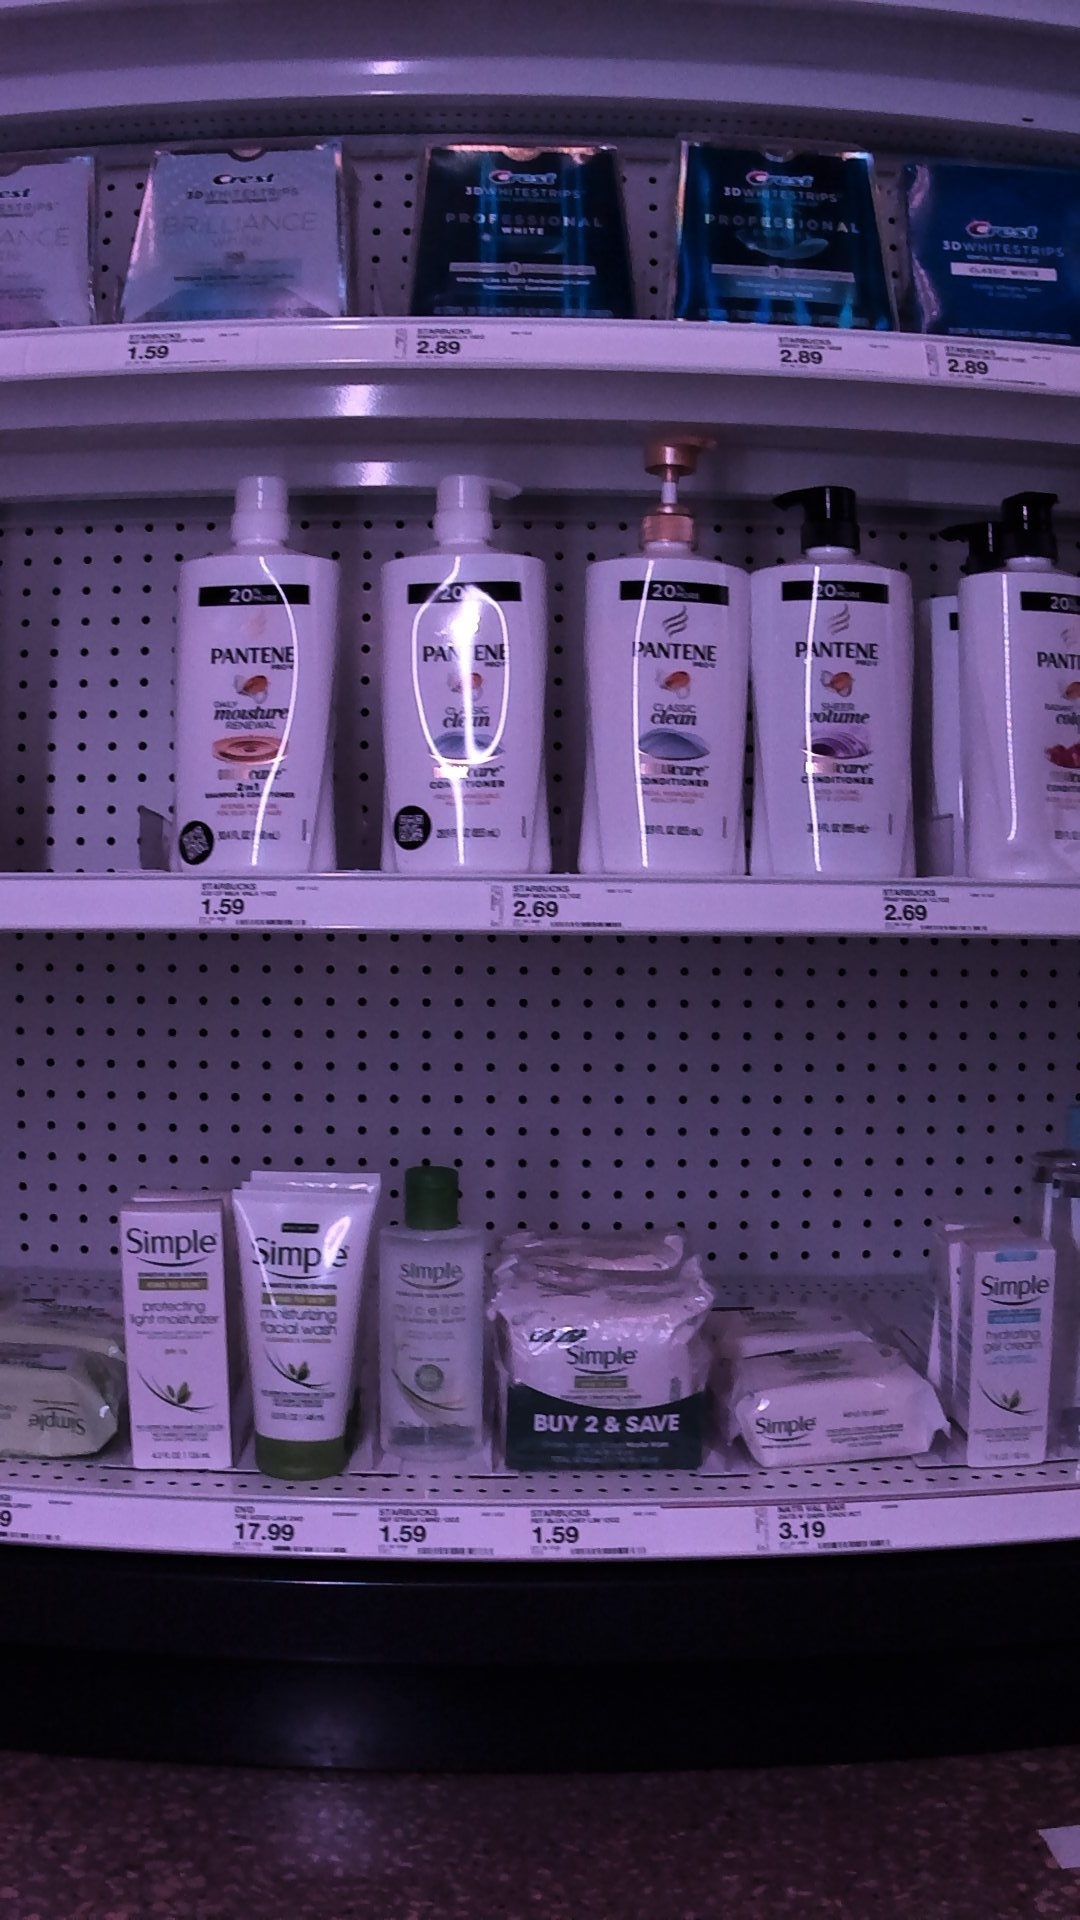ptag: (484, 880, 646, 940), (913, 335, 1069, 397), (753, 1501, 902, 1555), (518, 1505, 655, 1563), (872, 880, 1002, 940), (389, 322, 535, 375), (195, 880, 344, 931), (222, 1505, 349, 1560), (369, 1505, 495, 1560), (124, 320, 251, 373), (762, 326, 882, 377)
